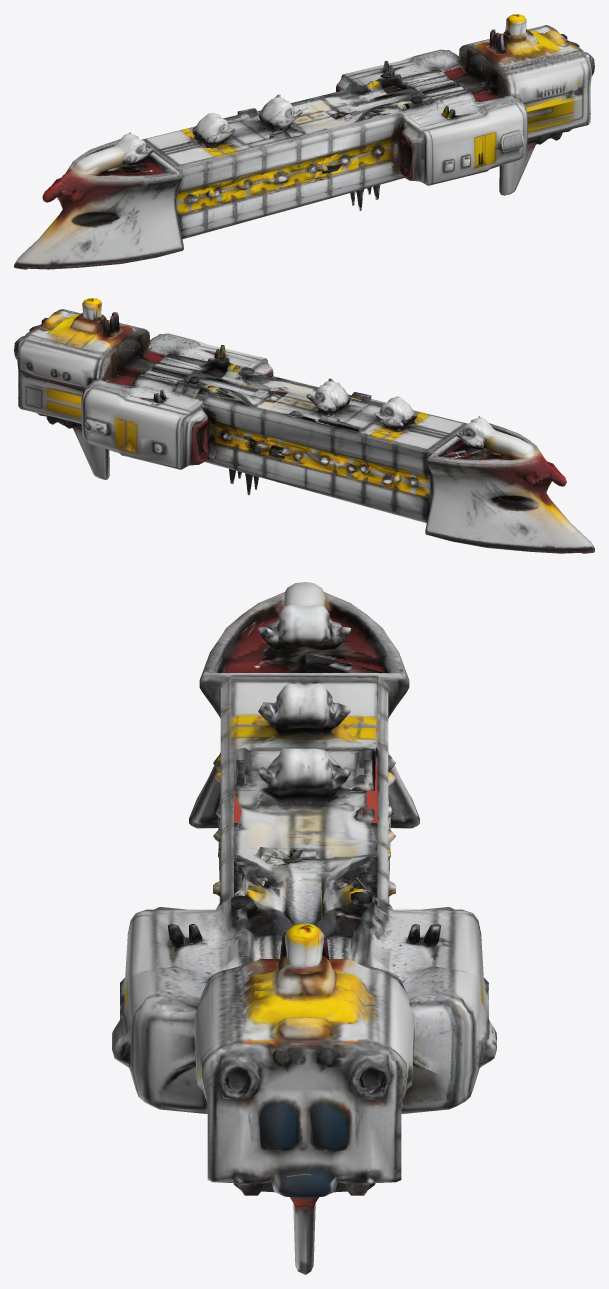
Rendered from Falchion_Escort.glb.
3 renders of one model, top to bottom at view 1: azimuth 30°, elevation 25°; view 2: azimuth 150°, elevation 25°; view 3: azimuth 270°, elevation 25°, orthographic. The views are drawn at different scales.
Size of the model in its own units: 1.91 by 0.5753 by 0.5675.
1 material, 1 textured.
